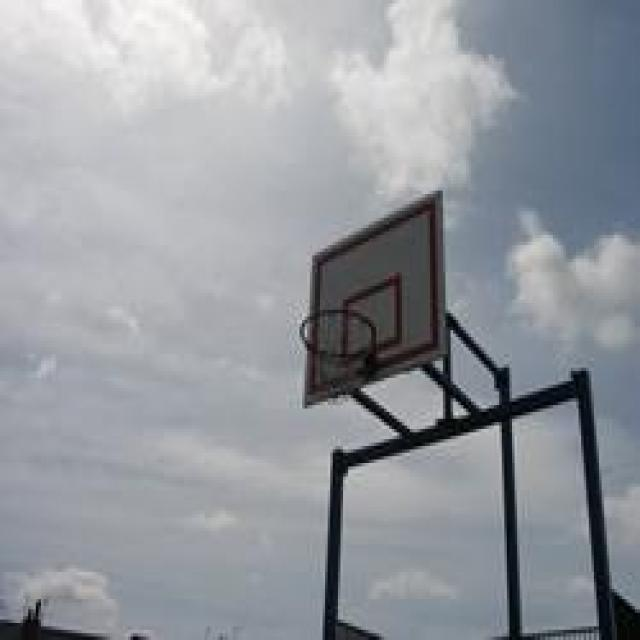hoop: (299, 301, 382, 416)
